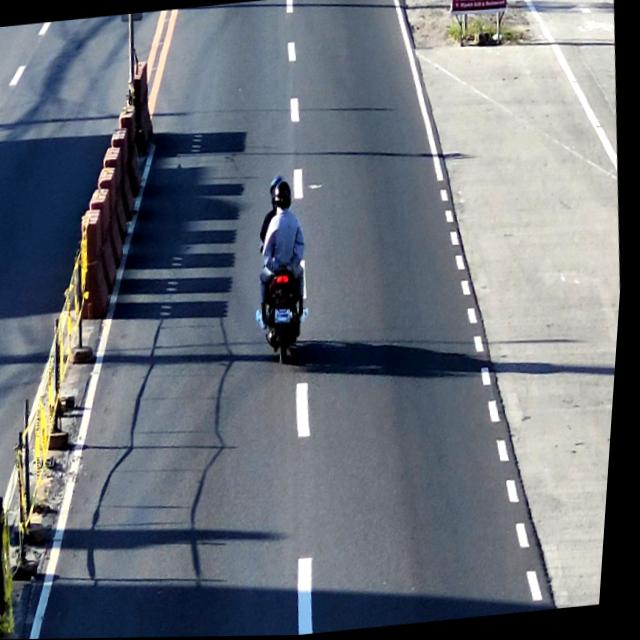Motorcycle: (248, 170, 323, 370)
